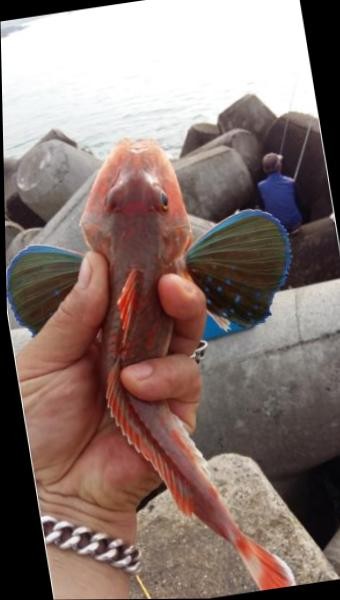fish: (5, 140, 293, 590)
